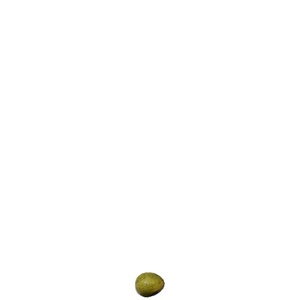goiaba: (132, 269, 168, 296)
